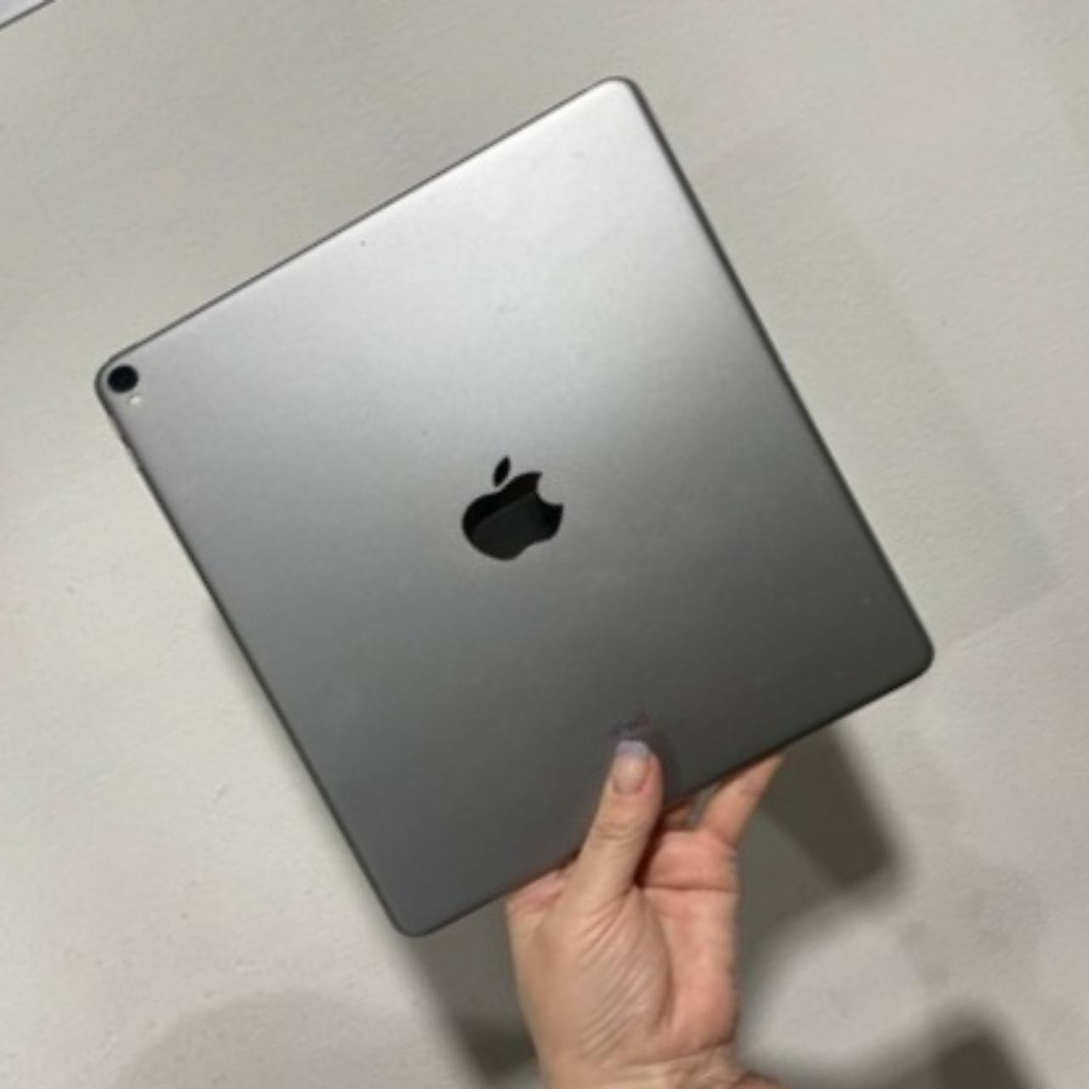Tablet_PC: (62, 38, 983, 978)
